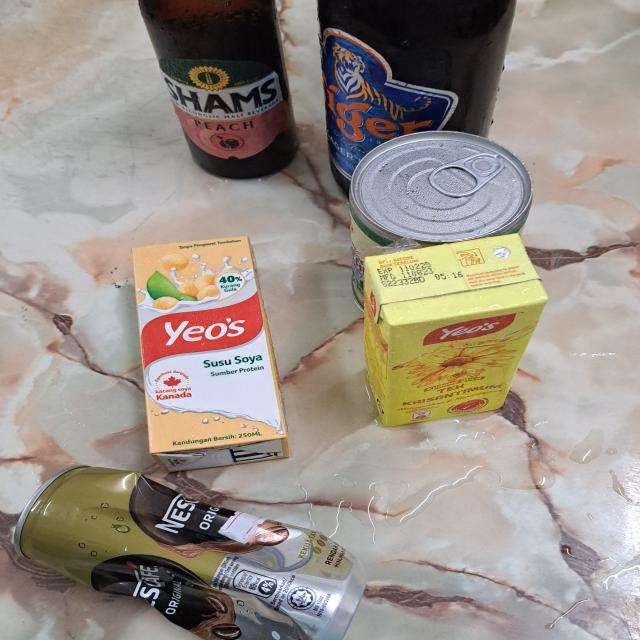can: (6, 463, 367, 640), (355, 129, 535, 307)
drink carton: (122, 240, 290, 468), (353, 233, 543, 429)
glass bottle: (313, 0, 512, 209), (128, 0, 301, 190)
pop tab: (425, 148, 519, 198)
